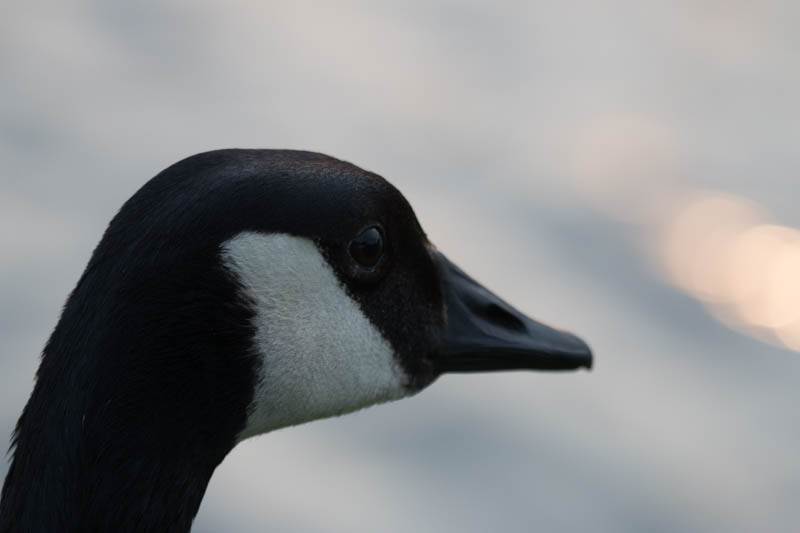goose-head: (59, 148, 592, 447)
